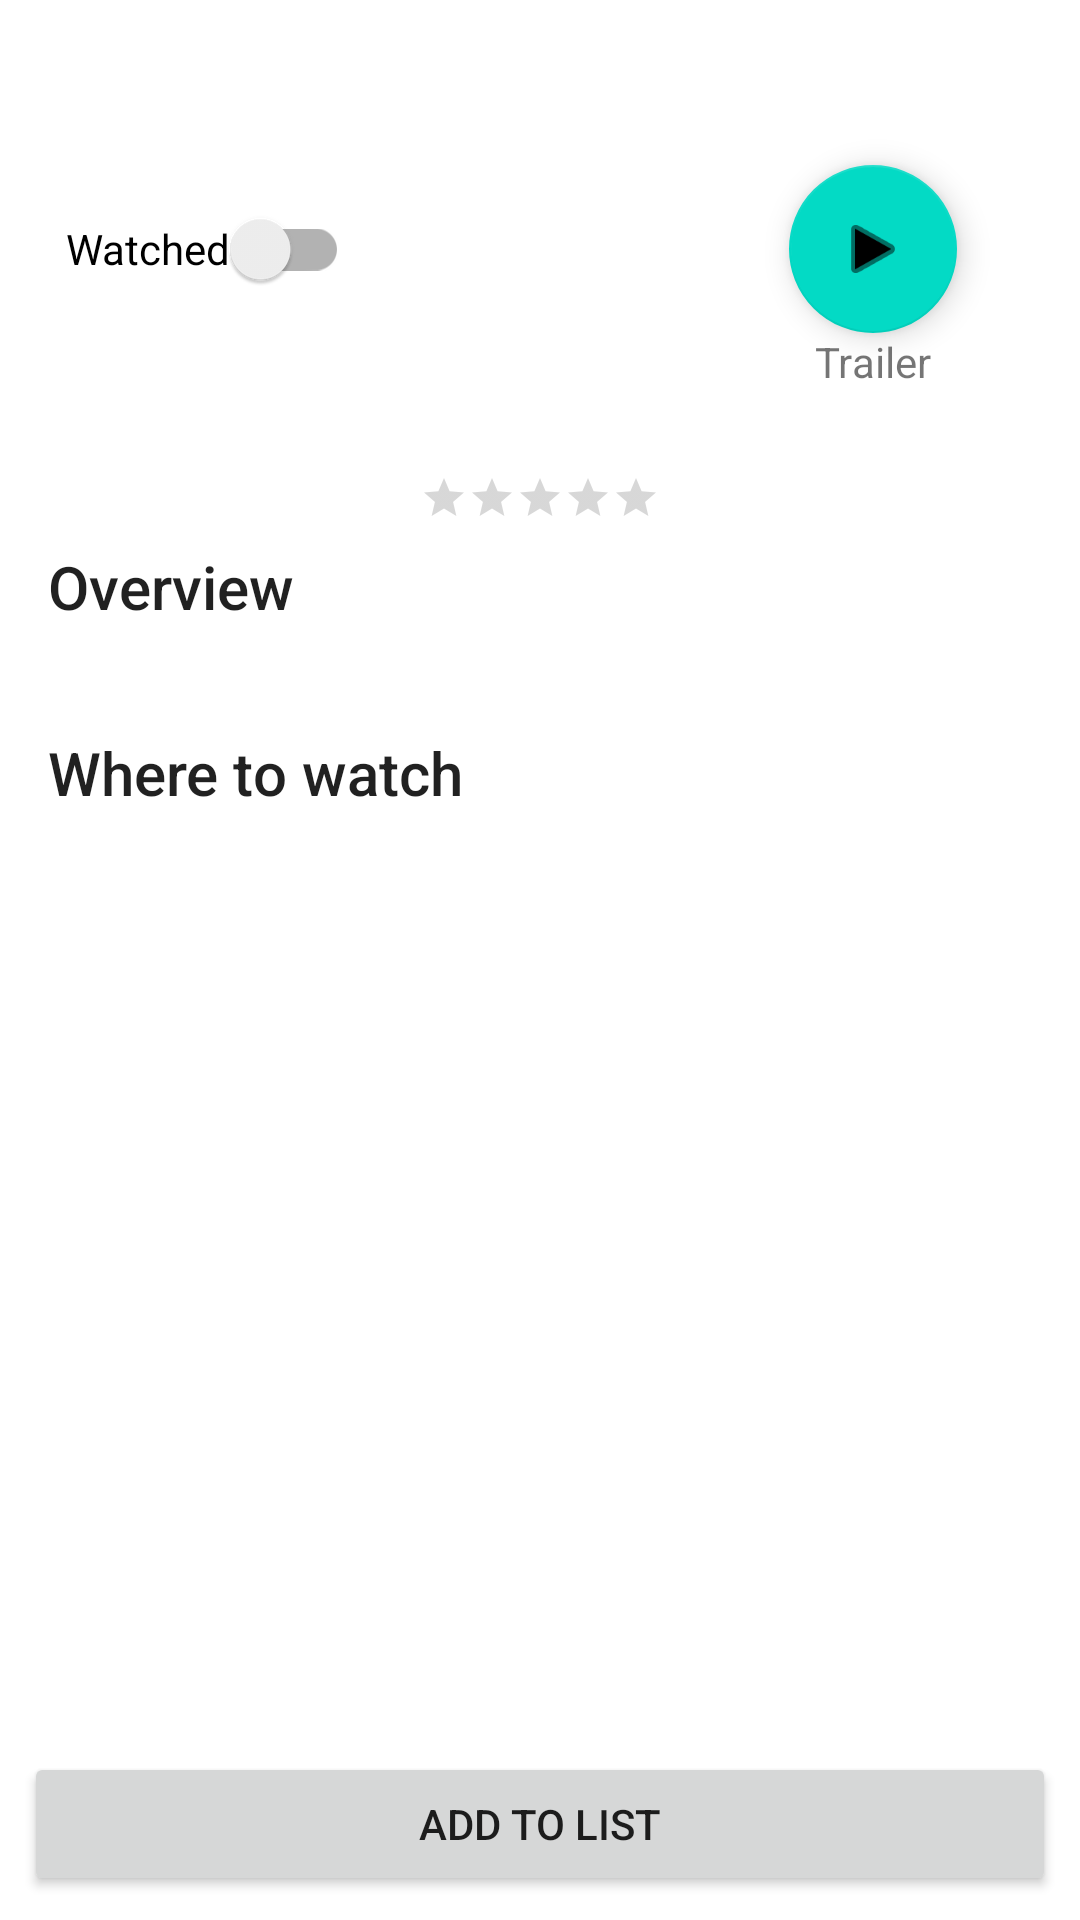

Locate icon controls on the screen. Image size 1080x1920, boxes as (x1, y1, x2, y2).
play: (789, 165, 957, 333)
